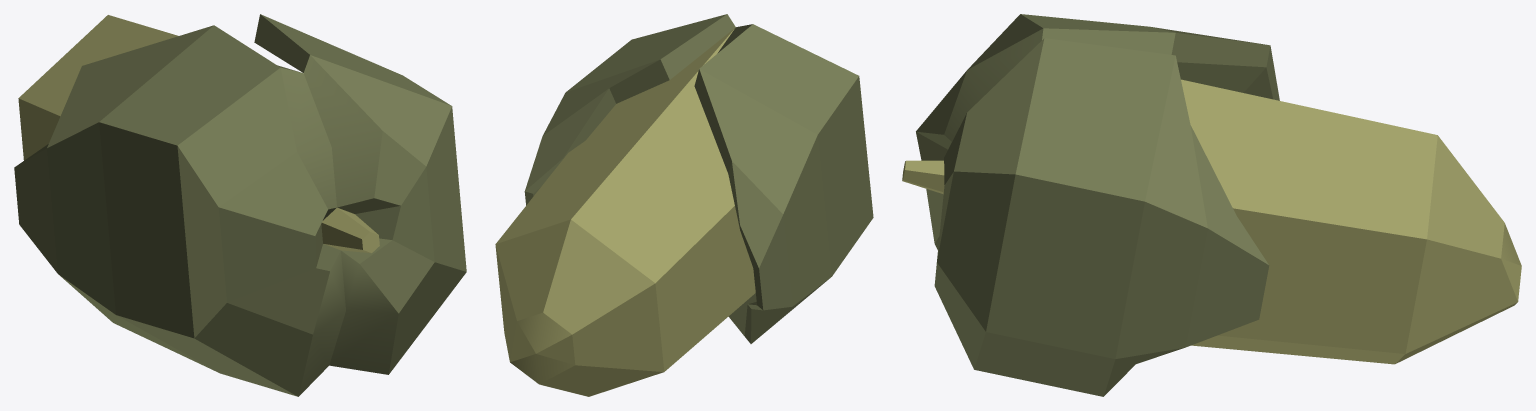
3 views of the same model, side by side, from view 1: azimuth 30°, elevation 25°; view 2: azimuth 150°, elevation 25°; view 3: azimuth 270°, elevation 25° (orthographic). The views are drawn at different scales.
Visible parts, largest first — view 1: 玉米_pCylinder9; view 2: 玉米_pCylinder9; view 3: 玉米_pCylinder9.
Part boxes in pixels (x1,y1,x2,y2): 玉米_pCylinder9: [14, 14, 466, 396]; 玉米_pCylinder9: [495, 14, 873, 396]; 玉米_pCylinder9: [902, 14, 1521, 396].
Size of the model in its own units: 14.53 by 14.62 by 24.85.
